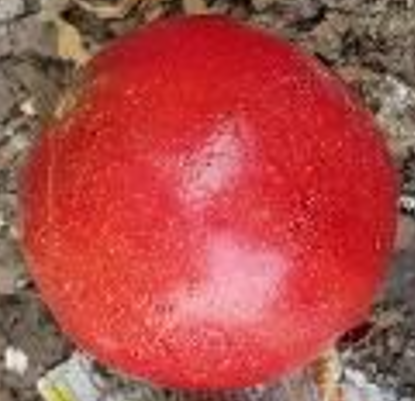pomegranate_A: (17, 14, 402, 393)
